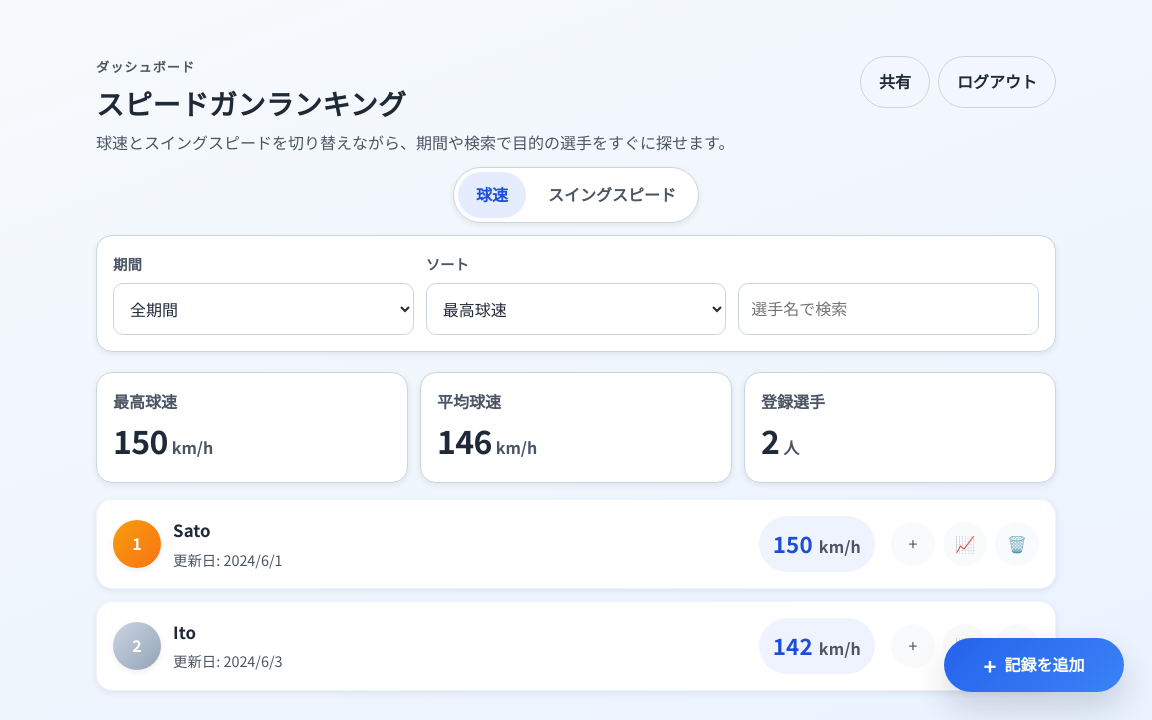
Scenario: switches between pitch and swing rankings with matching labels
Expected: the text "Sato" is shown, 173,518 -> 211,542
Click the tab "スイングスピード": (612, 195) 530,172 -> 694,218
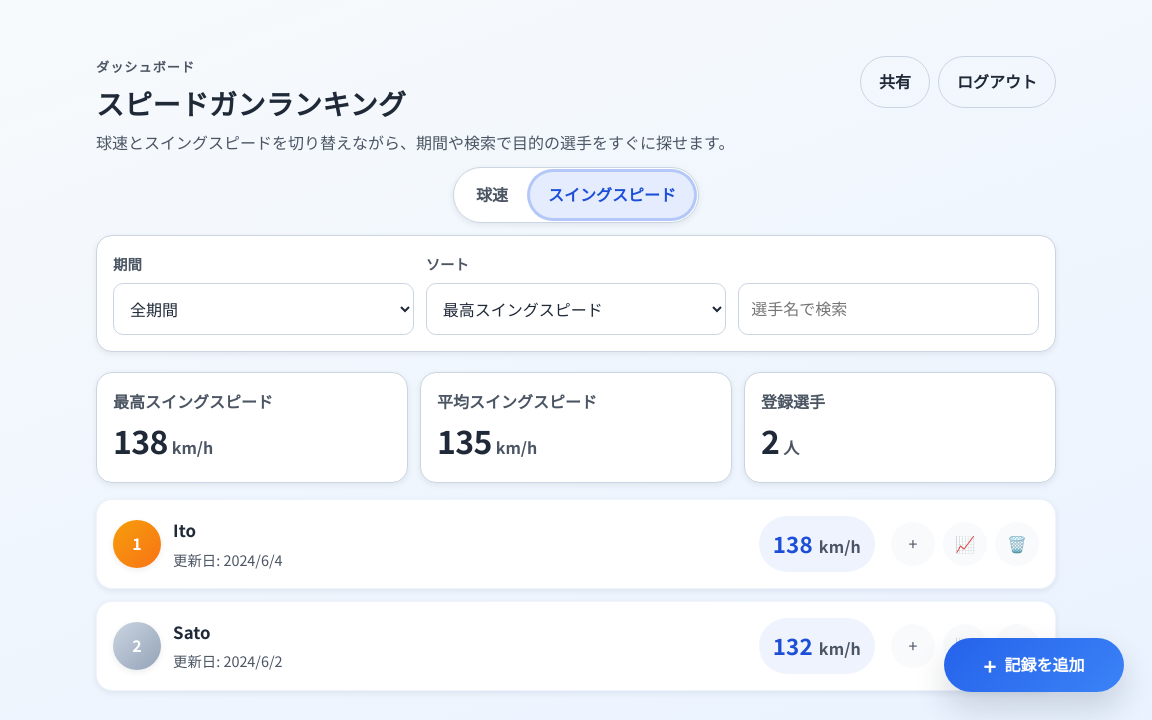
Now the text "Ito" is shown, box 173,518 -> 196,542
Now the 2nd text "138" is shown, box 773,526 -> 813,562
Click the button "+ 記録を追加": (1034, 665) 944,638 -> 1124,692
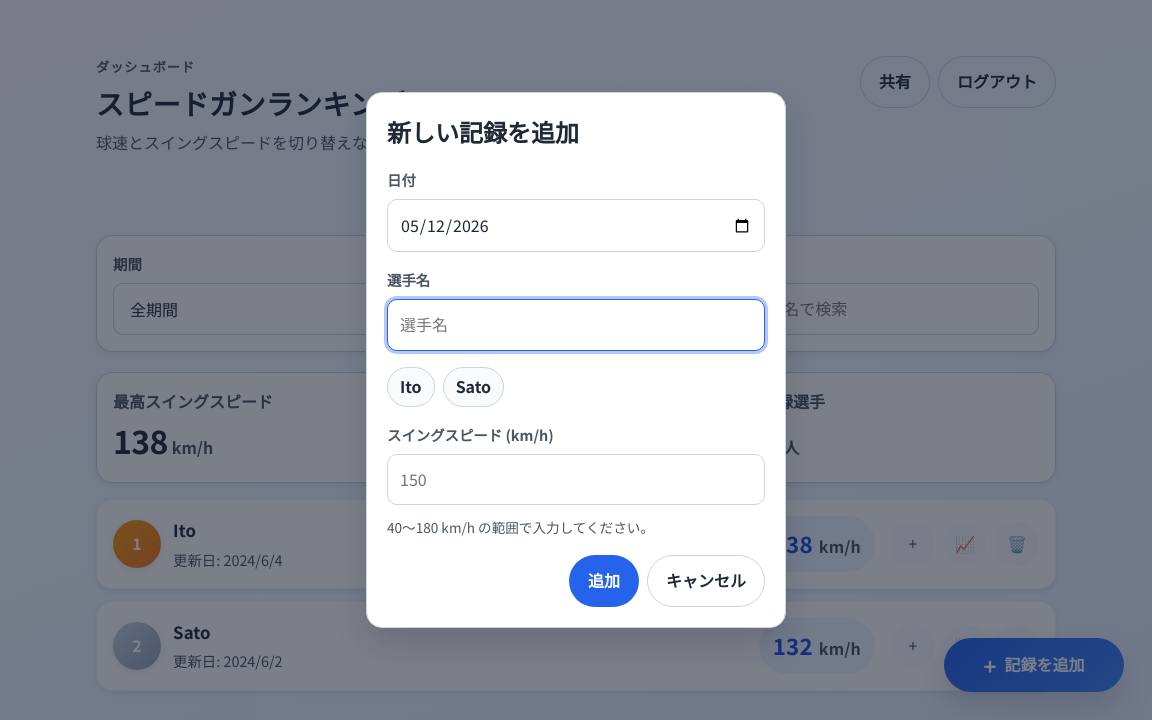
Now the number field labelled "スイングスピード (km/h)" is shown, box 387,454 -> 765,505
